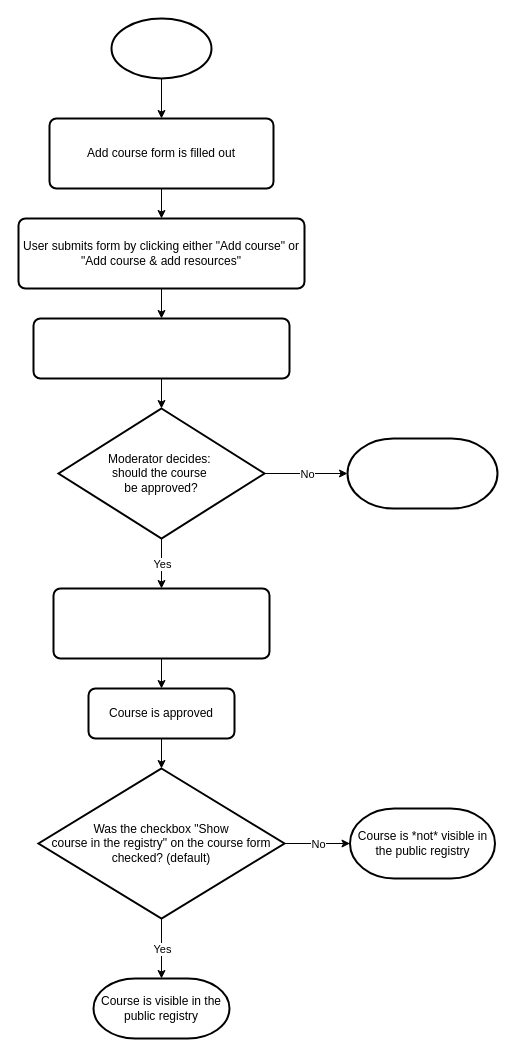
Image size: 515x1056. Some labels were removed from this diagram. The centre of each missing label's shape, as x and y in pixels:
"Course is saved in DB and mail with approval request is sent to moderator" belongs at (161,348).
"Moderator clicks on link in mail, logs in and clicks on approve" belongs at (161,623).
"Not implemented (yet), see issue #44" belongs at (422,473).
"User logs in" belongs at (161,48).
